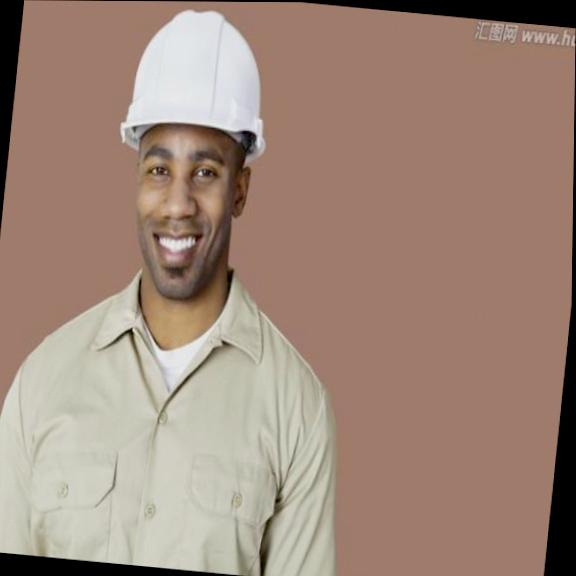no_safety_vest: (18, 298, 328, 576)
